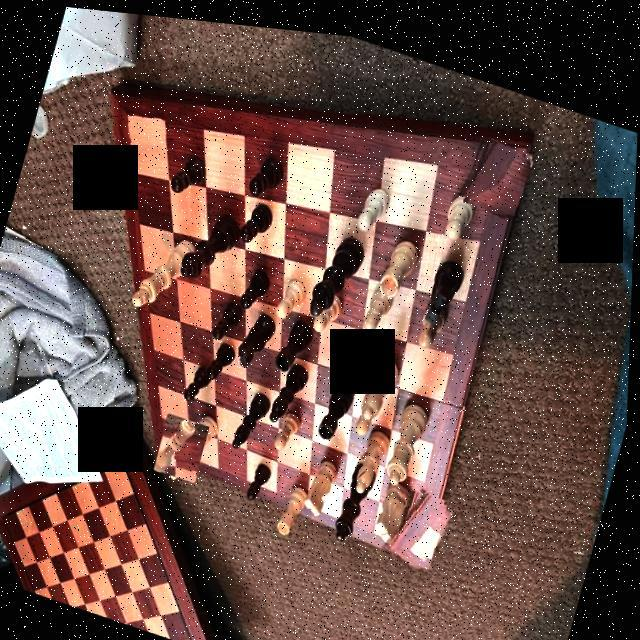chess-table-corners: (384, 472, 456, 575), (460, 122, 534, 210), (110, 89, 172, 160), (156, 407, 212, 478)
